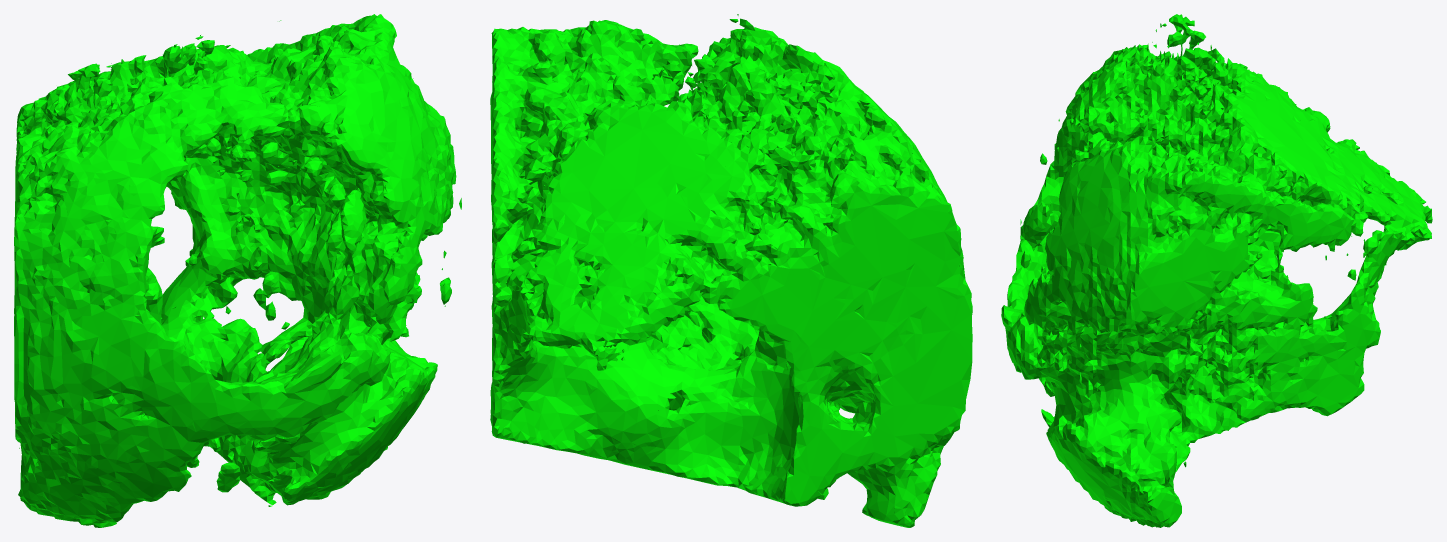
File: B939XXXX-1_base_36.obj
3 views of the same model, side by side, from view 1: azimuth 30°, elevation 25°; view 2: azimuth 150°, elevation 25°; view 3: azimuth 270°, elevation 25° (orthographic). The views are drawn at different scales.
Parts seen in each view (by area): view 1: 36_base; view 2: 36_base; view 3: 36_base.
Part boxes in pixels (x1,y1,x2,y2): 36_base: (14, 14, 461, 527); 36_base: (490, 14, 972, 527); 36_base: (1001, 14, 1432, 527).
Bounding box in the file's own units: 220 × 218 × 204.
